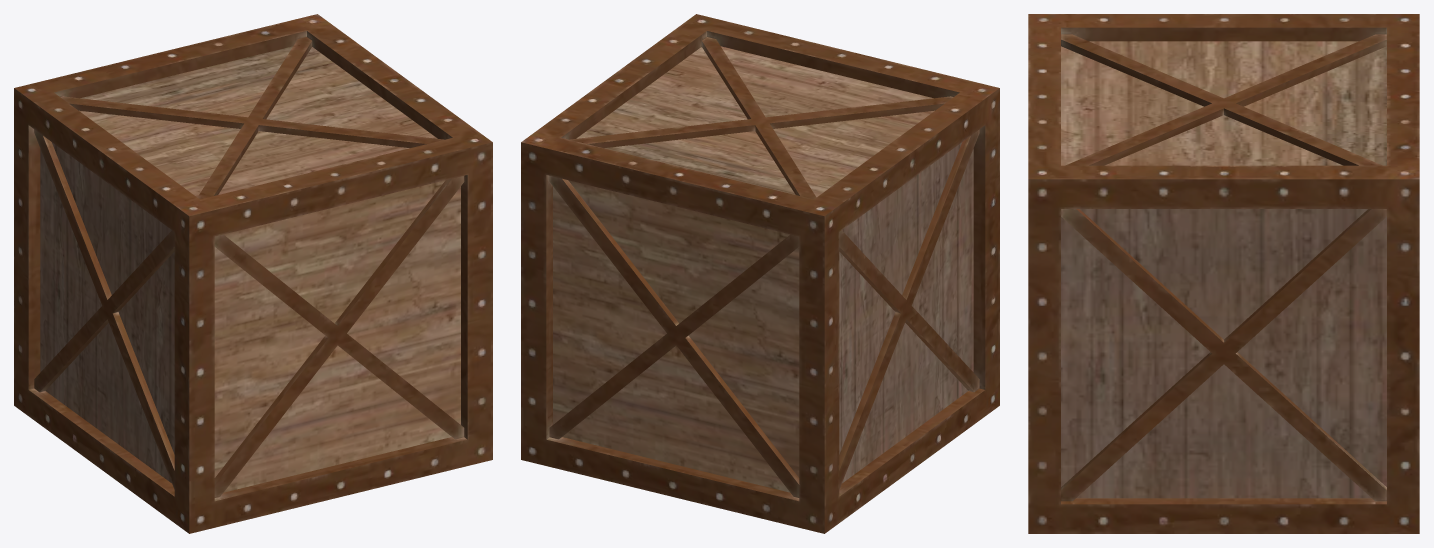
Rendered from crate_cargo.glb.
The picture shows the model from 3 angles, left to right: view 1: azimuth 30°, elevation 25°; view 2: azimuth 150°, elevation 25°; view 3: azimuth 270°, elevation 25°; orthographic projection. The views are drawn at different scales.
Parts seen in each view (by area): view 1: crate_cargo; view 2: crate_cargo; view 3: crate_cargo.
Part boxes in pixels (box(x1,y1,x2,y2)): crate_cargo: box(14, 14, 492, 533); crate_cargo: box(521, 14, 999, 533); crate_cargo: box(1028, 14, 1419, 533).
Size of the model in its own units: 0.8 by 0.8 by 0.8.
Materials: 2 (2 with a texture image).
